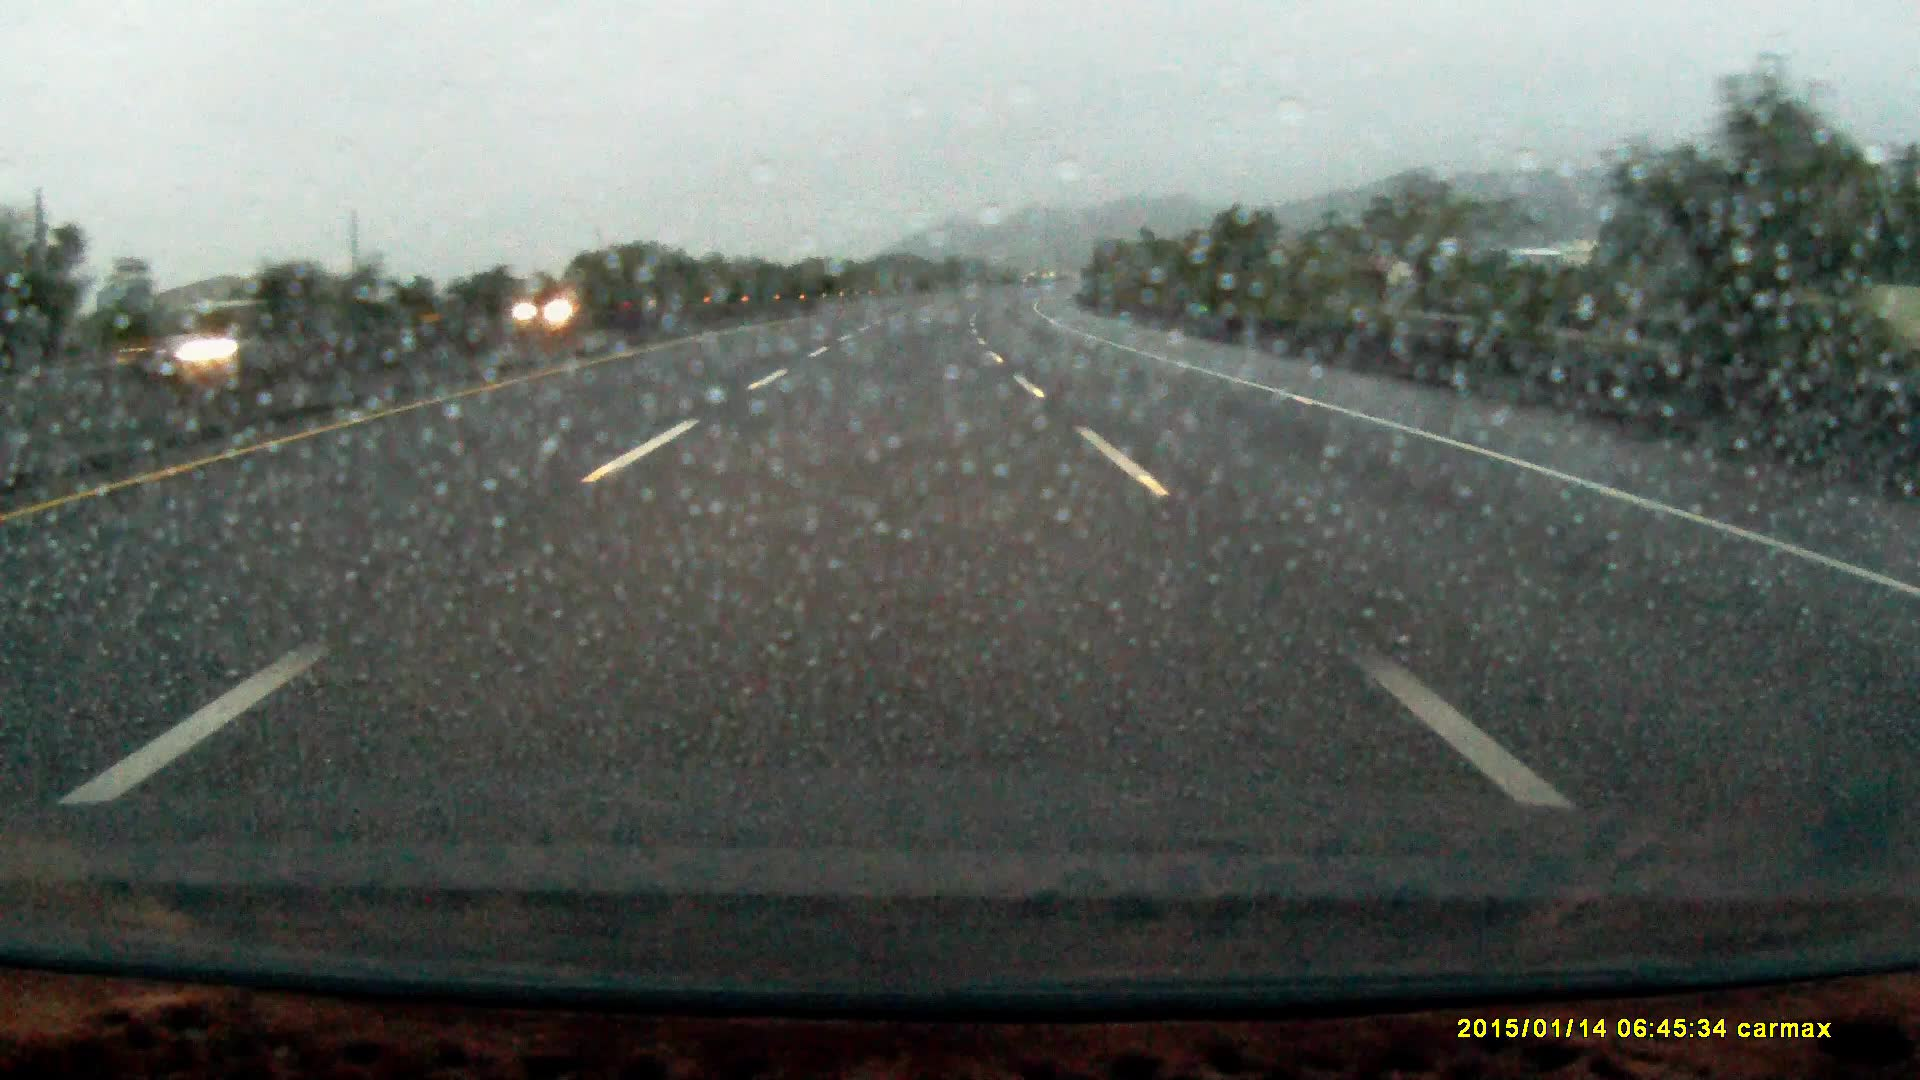vehicle: (100, 299, 313, 373), (512, 294, 593, 328)
